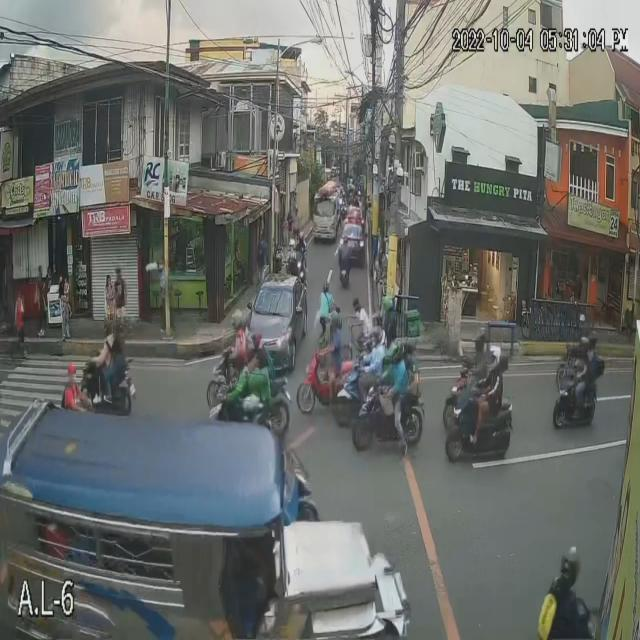full: (388, 334, 406, 365), (486, 346, 502, 374), (249, 330, 263, 352), (370, 326, 383, 348), (232, 308, 243, 330), (579, 334, 590, 356)
half: (472, 325, 486, 353), (329, 311, 340, 334)
